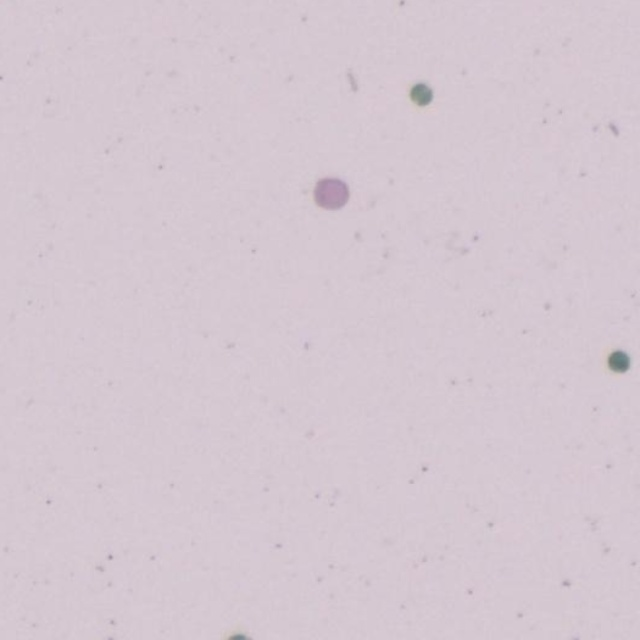intermediate: (313, 178, 347, 208)
non_viable: (410, 83, 433, 106), (607, 350, 630, 372)
